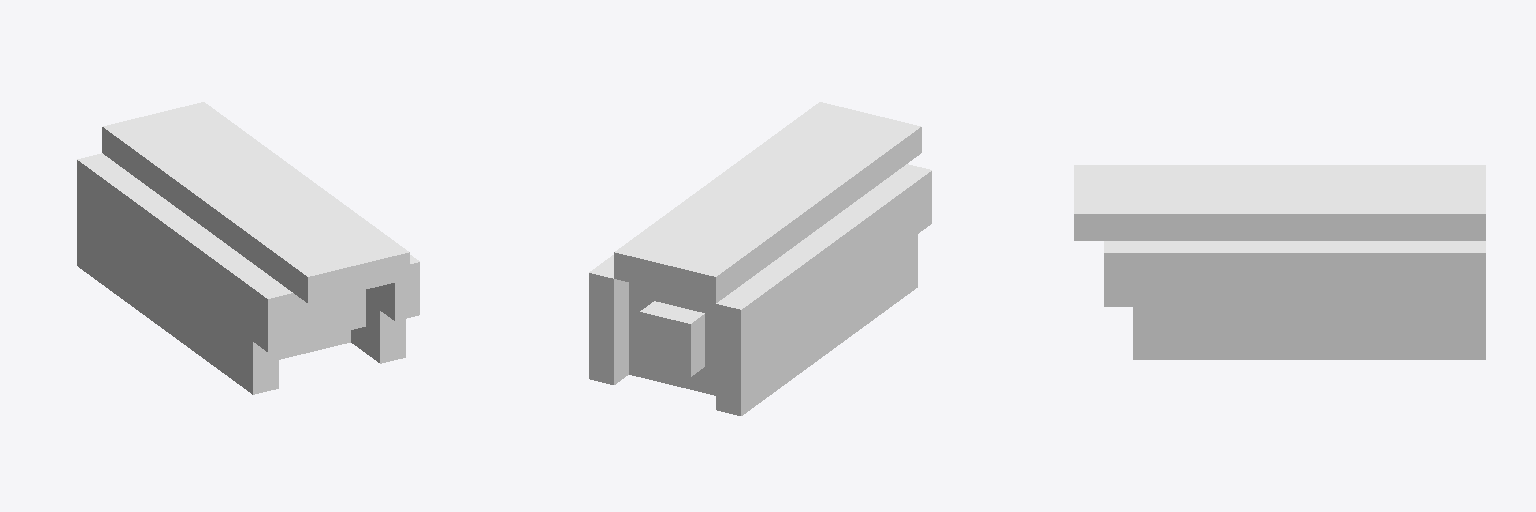
Rendered from SecurityCamera.obj.
The picture shows the model from 3 angles: view 1: azimuth 30°, elevation 25°; view 2: azimuth 150°, elevation 25°; view 3: azimuth 270°, elevation 25°; orthographic projection.
Parts seen in each view (by area): view 1: object 1; view 2: object 1; view 3: object 1.
Part boxes in pixels (left/top/right/bottom): object 1: left=77, top=102, right=419, bottom=394; object 1: left=589, top=102, right=931, bottom=415; object 1: left=1074, top=165, right=1485, bottom=359.
Size of the model in its own units: 0.6 by 0.5 by 1.4.